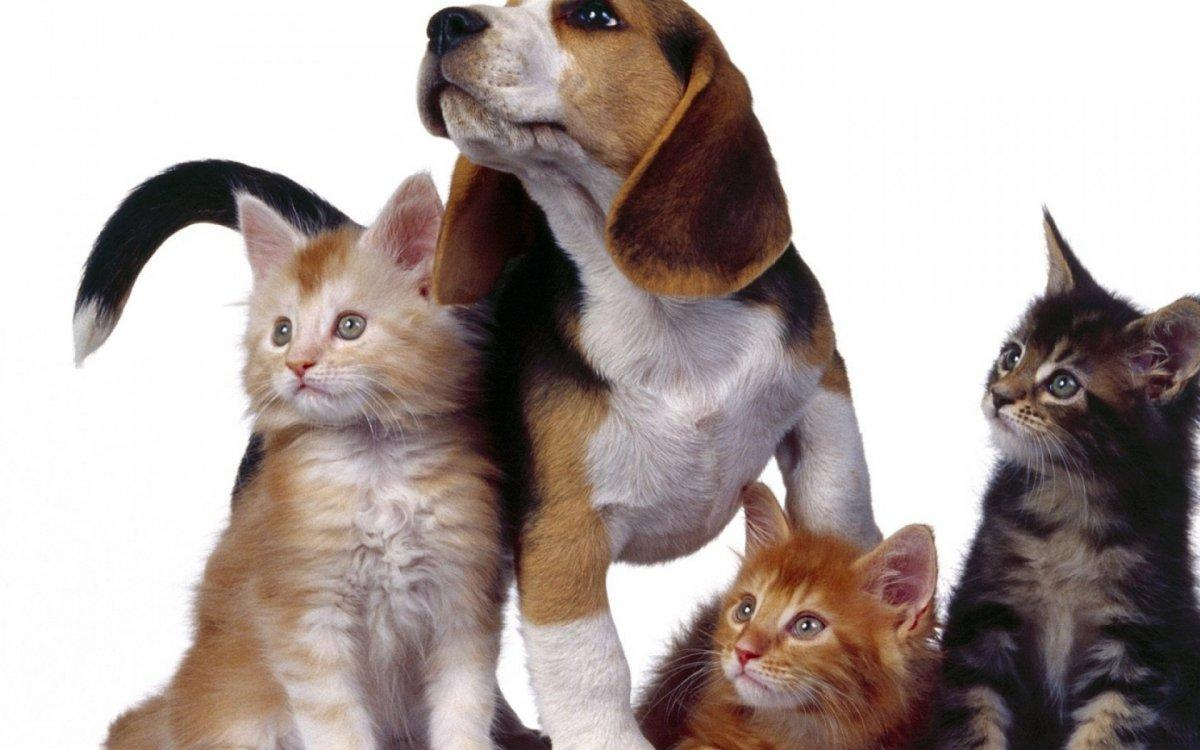animals: (400, 1, 853, 736), (216, 181, 517, 750), (923, 207, 1200, 750), (711, 464, 942, 750)
